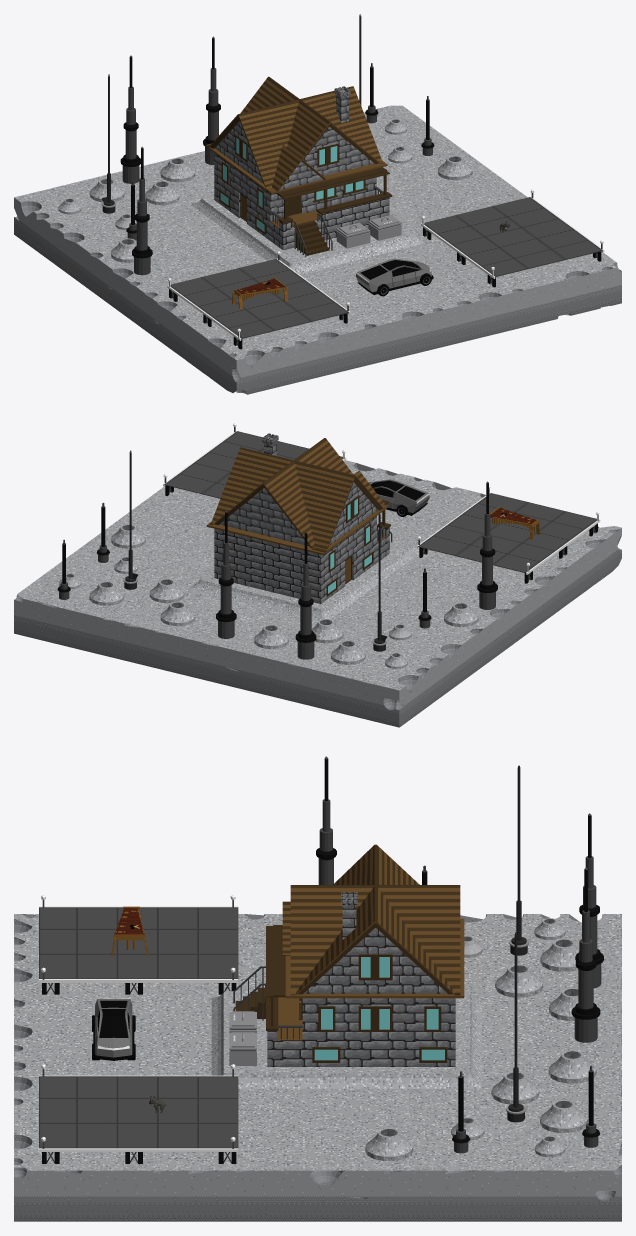
3 renders of one model, top to bottom at view 1: azimuth 30°, elevation 25°; view 2: azimuth 150°, elevation 25°; view 3: azimuth 270°, elevation 25°, orthographic. The views are drawn at different scales.
Parts seen in each view (by area): view 1: Cube.027, Cube.586, Cube.026, Cube.025, Cube.028, VEHICLES_CYBERTRUCK, Cylinder.020, Cylinder.021, Cylinder.017, OBJRANDOM_MARIMBA, Cube.029, Cube.030 (+4 smaller); view 2: Cube.027, Cube.586, Cube.025, Cube.028, Cube.026, VEHICLES_CYBERTRUCK, Cylinder.020, Cylinder.021, Cylinder.017, OBJRANDOM_MARIMBA, Cylinder.031, Cylinder.028 (+8 smaller); view 3: Cube.027, Cube.586, Cube.026, Cube.025, Cube.028, VEHICLES_CYBERTRUCK, Cylinder.017, Cylinder.020, Cylinder.021, Cylinder.033, Cylinder.031, Cylinder.029 (+10 smaller).
Part boxes in pixels (<box>): Cube.027: <box>14,105,621,394</box>; Cube.586: <box>205,76,392,256</box>; Cube.026: <box>421,189,604,287</box>; Cube.025: <box>167,251,350,349</box>; Cube.028: <box>191,195,424,274</box>; VEHICLES_CYBERTRUCK: <box>355,258,433,296</box>; Cylinder.020: <box>120,55,140,183</box>; Cylinder.021: <box>132,146,152,275</box>; Cylinder.017: <box>203,36,220,164</box>; OBJRANDOM_MARIMBA: <box>232,277,287,309</box>; Cube.029: <box>336,222,370,248</box>; Cube.030: <box>368,215,401,240</box>; Cube.027: <box>14,460,621,727</box>; Cube.586: <box>206,433,392,603</box>; Cube.025: <box>417,485,600,583</box>; Cube.028: <box>190,538,419,620</box>; Cube.026: <box>163,423,346,498</box>; VEHICLES_CYBERTRUCK: <box>369,479,429,517</box>; Cylinder.020: <box>295,531,316,659</box>; Cylinder.021: <box>477,481,497,609</box>; Cylinder.017: <box>216,510,236,638</box>; OBJRANDOM_MARIMBA: <box>490,507,540,539</box>; Cylinder.031: <box>89,581,124,605</box>; Cylinder.028: <box>331,640,365,664</box>; Cube.027: <box>14,914,621,1221</box>; Cube.586: <box>233,844,464,1066</box>; Cube.026: <box>39,1064,238,1163</box>; Cube.025: <box>39,895,238,994</box>; Cube.028: <box>211,991,481,1088</box>; VEHICLES_CYBERTRUCK: <box>92,998,135,1060</box>; Cylinder.017: <box>571,867,600,1042</box>; Cylinder.020: <box>575,813,603,988</box>; Cylinder.021: <box>316,756,336,884</box>; Cylinder.033: <box>365,1128,413,1160</box>; Cylinder.031: <box>540,1100,587,1132</box>; Cylinder.029: <box>548,1050,596,1083</box>.
Size of the model in its own units: 4000 by 1799 by 4000.
36 materials, 5 textured.
